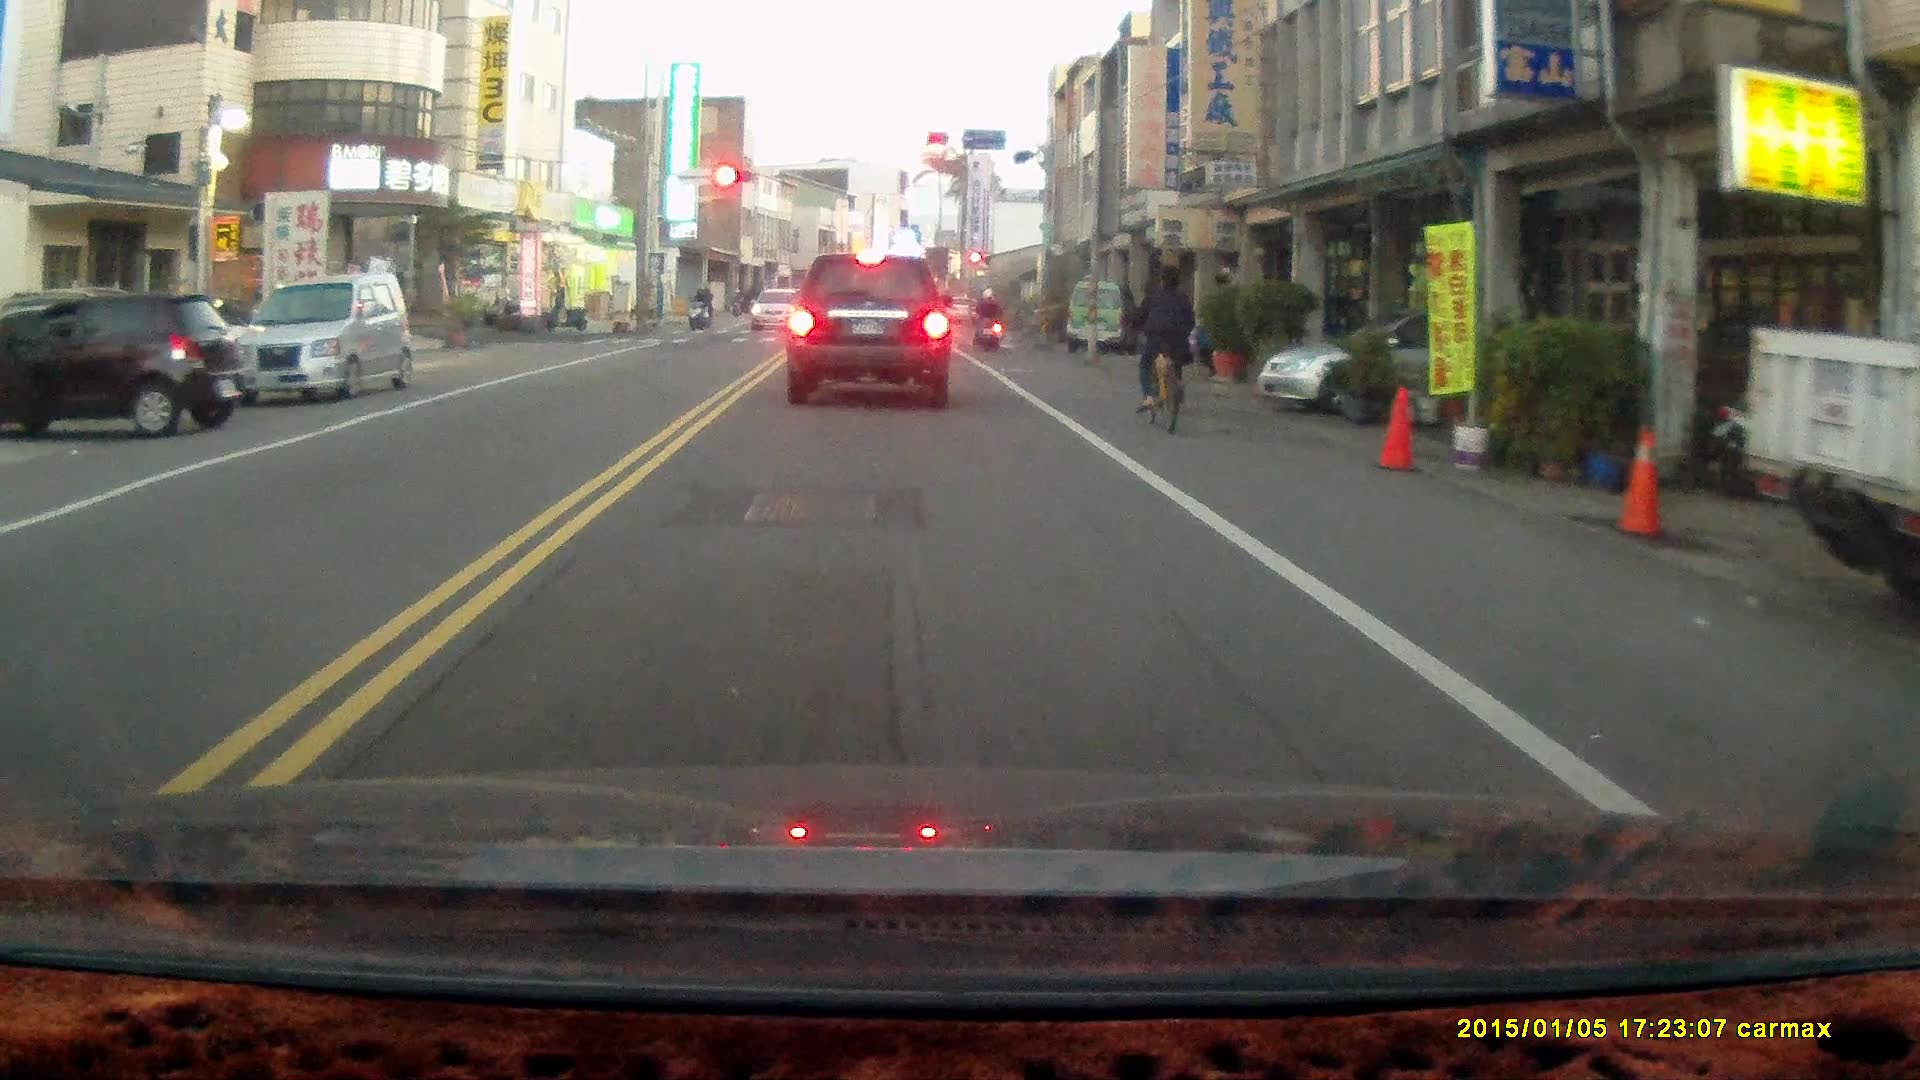rider: (1131, 265, 1195, 436), (969, 283, 1004, 351), (684, 281, 708, 330)
vehicle: (2, 289, 258, 443), (1253, 310, 1570, 420), (785, 251, 956, 411), (228, 271, 417, 402), (1064, 288, 1134, 363)
